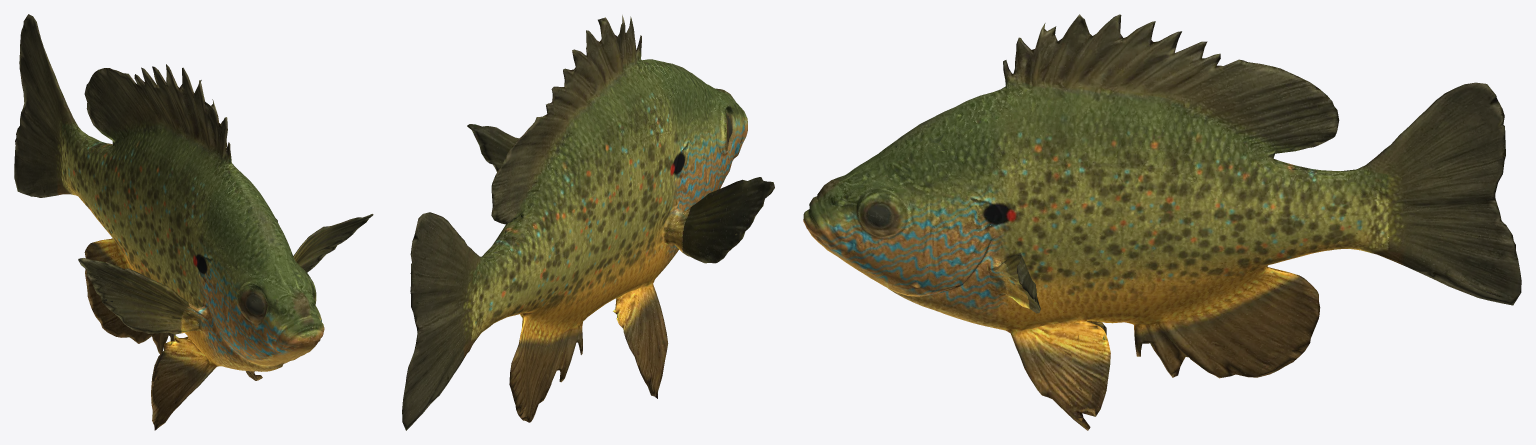
The model's file is zonnebaars.glb.
The picture shows the model from 3 angles, left to right: view 1: azimuth 30°, elevation 25°; view 2: azimuth 150°, elevation 25°; view 3: azimuth 270°, elevation 25°; orthographic projection. The views are drawn at different scales.
Visible parts, largest first — view 1: zonnebaars; view 2: zonnebaars; view 3: zonnebaars.
Boxes of the visible parts, left/top/right/bottom form: zonnebaars: left=14, top=14, right=373, bottom=430; zonnebaars: left=402, top=15, right=774, bottom=430; zonnebaars: left=803, top=14, right=1521, bottom=430.
Bounding box in the file's own units: 0.0828 × 0.093 × 0.1498.
1 material, 1 textured.
